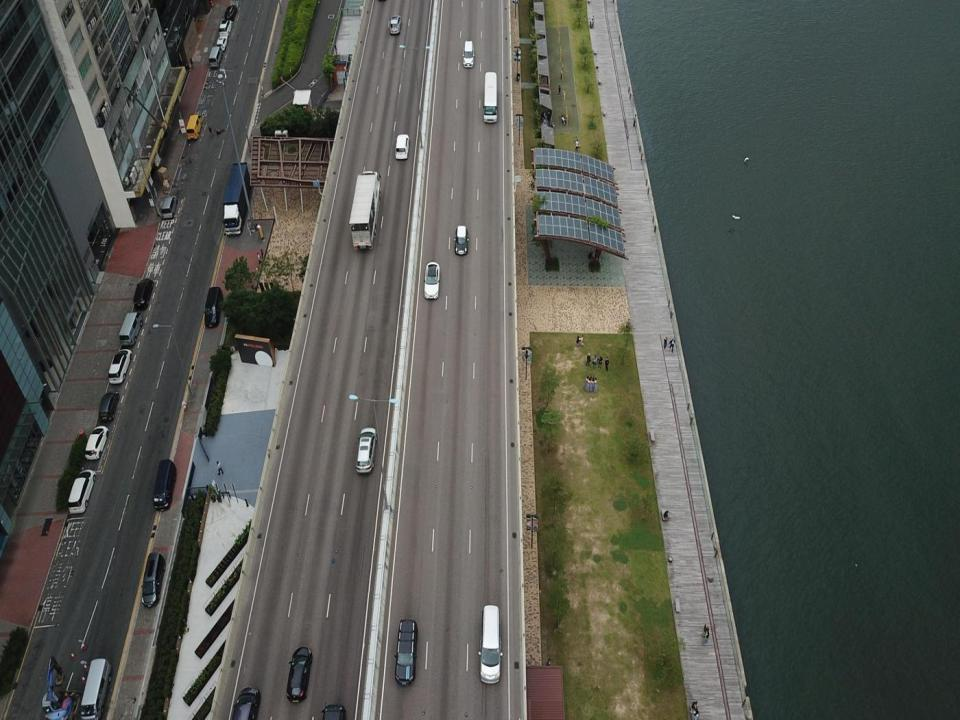bus: (482, 70, 499, 124)
car: (394, 618, 420, 685), (284, 647, 312, 704), (138, 551, 166, 608), (354, 426, 380, 474), (230, 684, 262, 719), (108, 348, 134, 386), (422, 260, 442, 300), (98, 389, 121, 423), (132, 277, 154, 309), (319, 700, 348, 719), (158, 194, 177, 218), (461, 40, 477, 68), (454, 225, 468, 255), (394, 133, 410, 158), (387, 13, 404, 36), (218, 19, 236, 37), (223, 4, 239, 21), (214, 34, 229, 52)
truck: (348, 169, 384, 250), (220, 161, 252, 236)
van: (78, 656, 115, 719), (477, 603, 504, 685), (150, 458, 176, 512), (68, 469, 97, 514), (202, 284, 227, 327), (118, 310, 145, 344), (83, 425, 110, 459), (186, 112, 203, 142), (207, 44, 224, 71)
